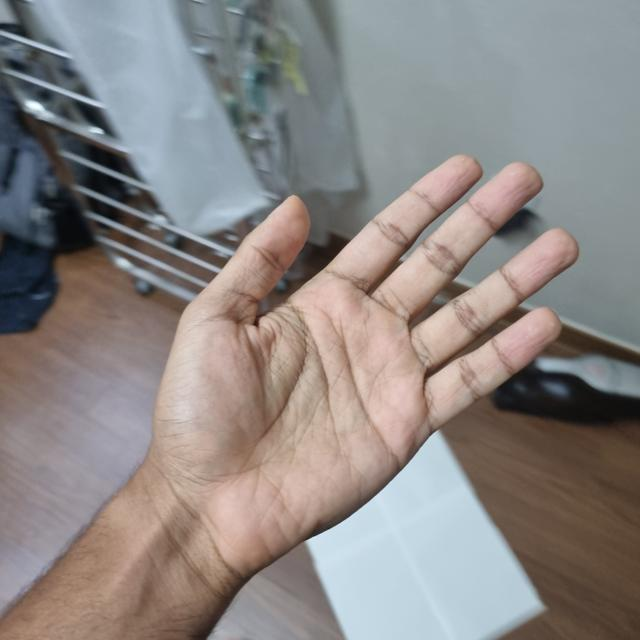Paper: (150, 202, 432, 567)
